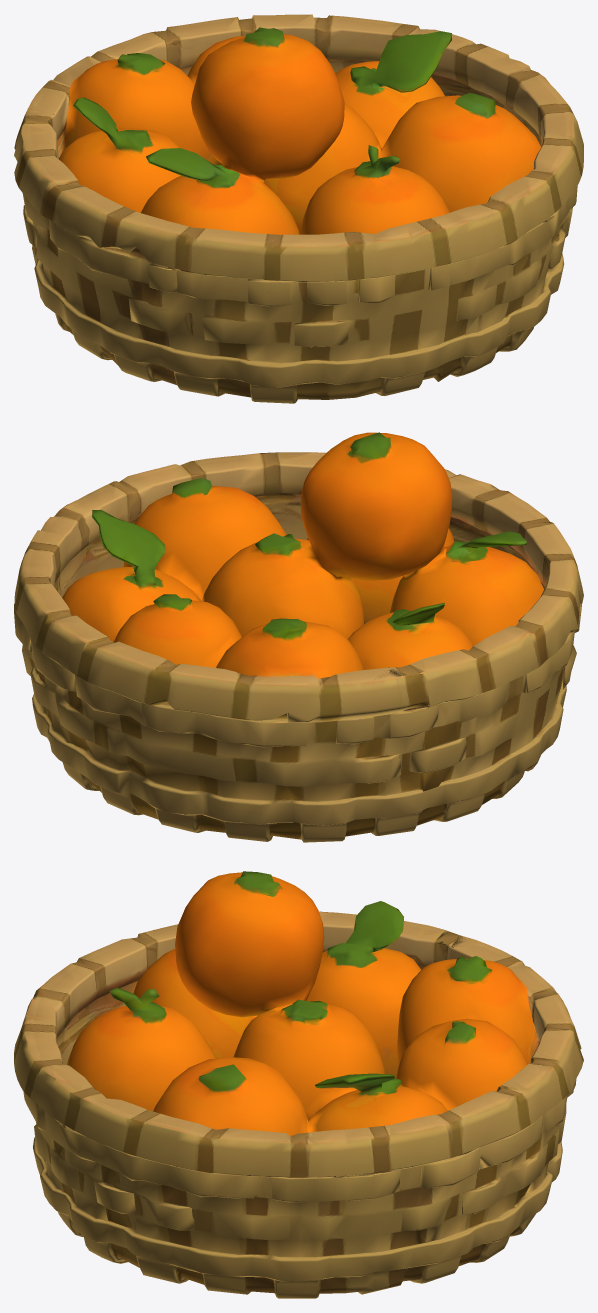
Rendered from orange-basket.glb.
The picture shows the model from 3 angles, top to bottom: view 1: azimuth 30°, elevation 25°; view 2: azimuth 150°, elevation 25°; view 3: azimuth 270°, elevation 25°; orthographic projection.
Visible parts, largest first — view 1: Mesh_0; view 2: Mesh_0; view 3: Mesh_0.
Part boxes in pixels (left/top/right/bottom): Mesh_0: left=14, top=14, right=583, bottom=403; Mesh_0: left=14, top=432, right=583, bottom=842; Mesh_0: left=14, top=871, right=583, bottom=1298.
Size of the model in its own units: 1.72 by 1 by 1.73.
1 material, 1 textured.
